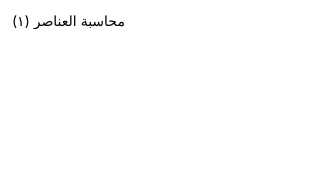
Scenario: StatsRoute › uses the shown percentage for the item progress bar and accessibility value
This screenshot has width=332, height=172.
Click the button with test id "stats-item-stats-toggle" at coordinates (68, 20), box [12,12,125,29]
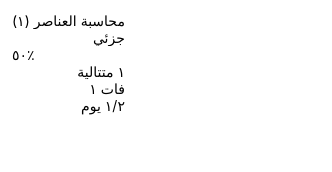
Expected: the text with test id "item-consistency-partial" reads "٥٠٪", [12,46,35,63]
